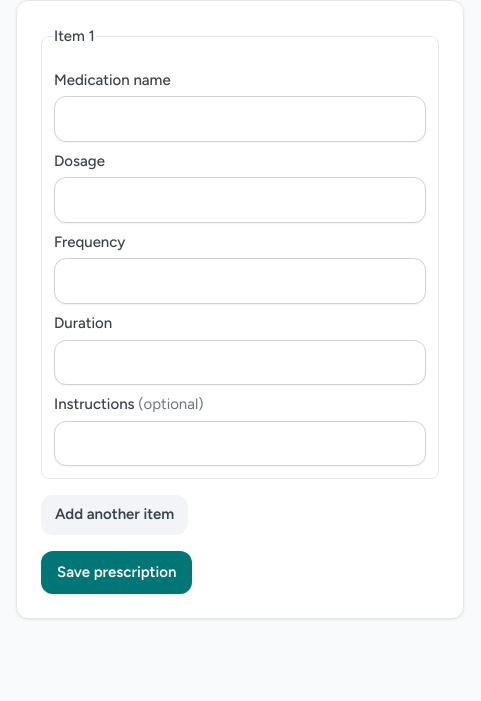
Scenario: PrescriptionForm › shows the PRESCRIPTION_ITEM_REQUIRED error message
Type "X" into the field labelled "Medication name" at (240, 119), box [54,96,426,142]
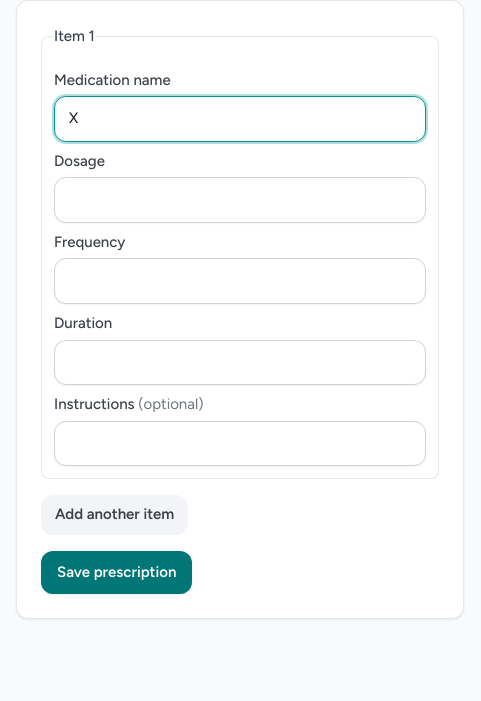
Type "1" into the field labelled "Dosage" at (240, 200), box [54,177,426,223]
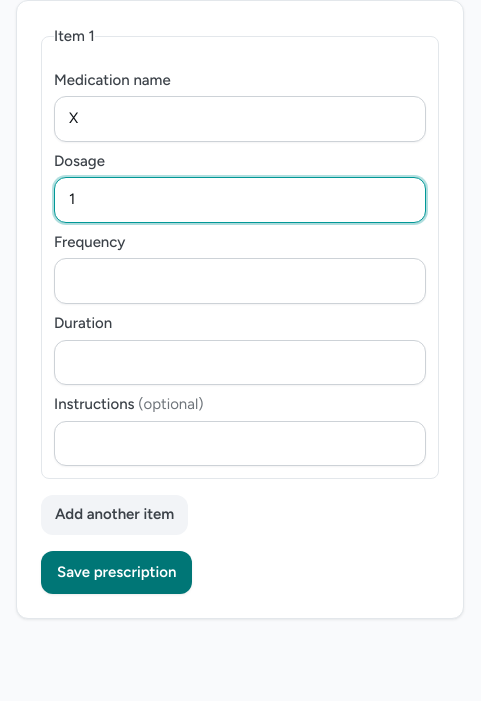
Type "1" into the field labelled "Frequency" at (240, 281), box [54,258,426,304]
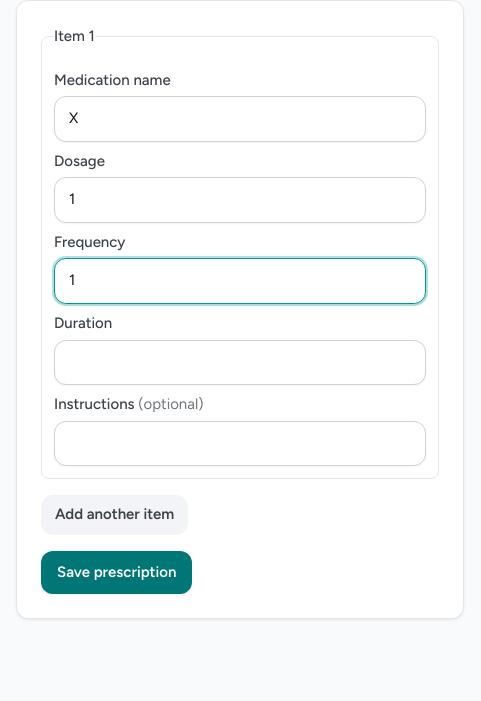
Type "1" into the field labelled "Duration" at (240, 362), box [54,340,426,385]
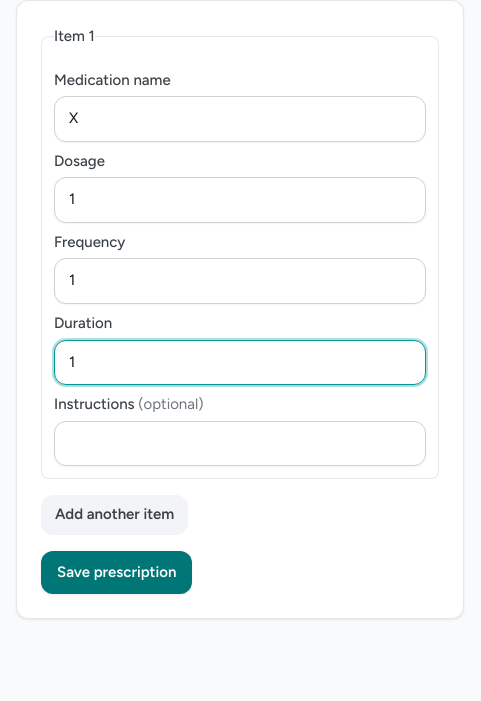
Click the button "Save prescription" at (117, 573), box [41,551,192,594]
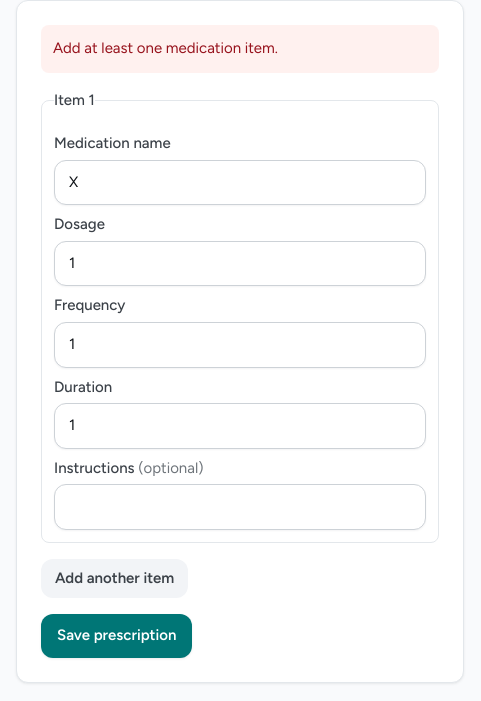
Result: the message shows "Add at least one medication item" at [53,39,278,57]
